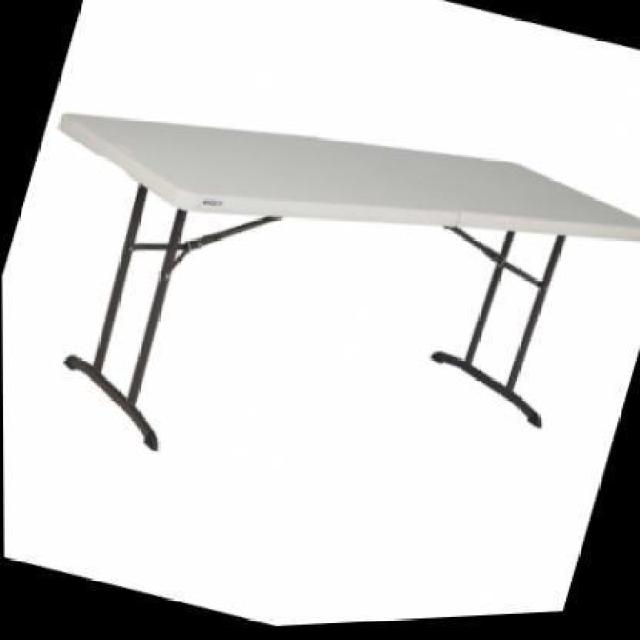tables: (57, 109, 638, 451)
